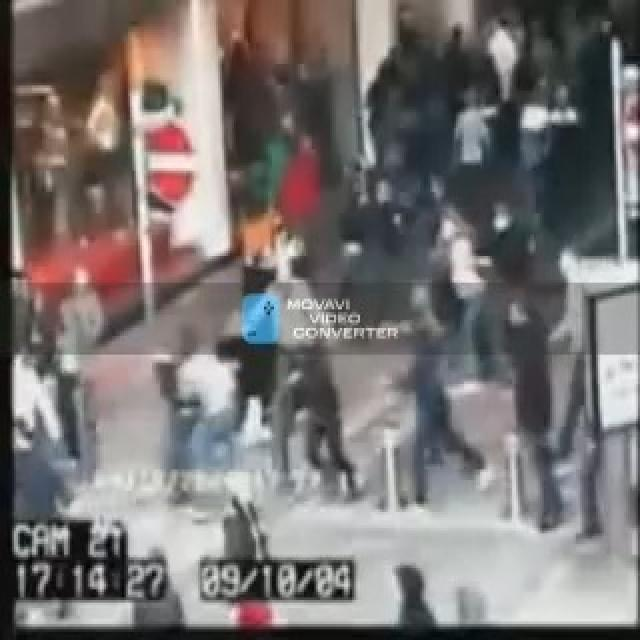non-voilence: (4, 0, 638, 635), (198, 554, 354, 602)
